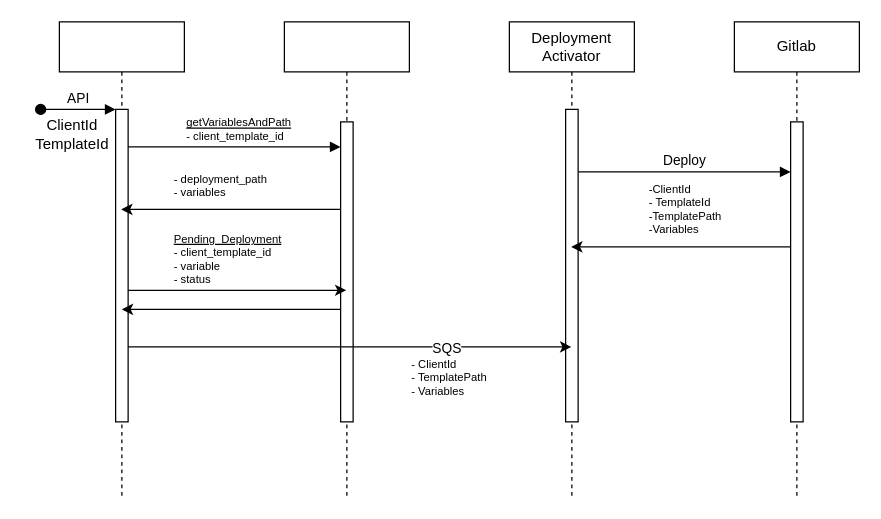
Some shapes in this 881 by 519 pixel diagram are drawn without their labels. The shapes that lost their labels are listed below. From the top down, each one's box as (x1, y1, x2, y2) in pixels, then its label:
(58, 21, 184, 497): :Deployment Orchestrator
(283, 21, 409, 497): Dynamodb
